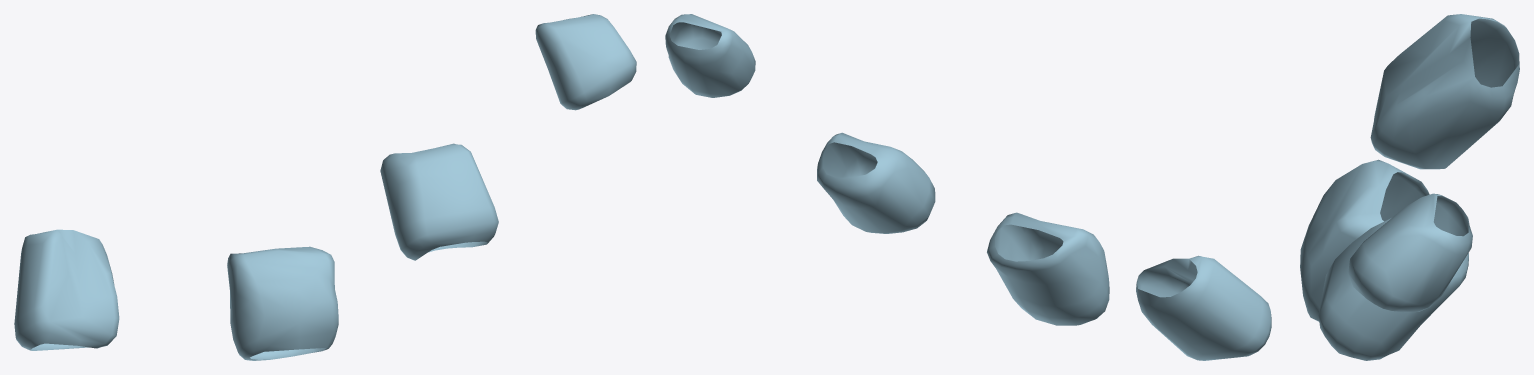
Rendered from articulacoes-articular-capsules-of-proximal-interphalangeal-joints-r.glb.
The picture shows the model from 3 angles, left to right: view 1: azimuth 30°, elevation 25°; view 2: azimuth 150°, elevation 25°; view 3: azimuth 270°, elevation 25°; orthographic projection. The views are drawn at different scales.
Visible parts, largest first — view 1: Articular capsules of proximal interphalangeal joints.r; view 2: Articular capsules of proximal interphalangeal joints.r; view 3: Articular capsules of proximal interphalangeal joints.r.
Boxes of the visible parts, bbox=[...] form: Articular capsules of proximal interphalangeal joints.r: bbox=[14, 14, 636, 360]; Articular capsules of proximal interphalangeal joints.r: bbox=[665, 14, 1271, 360]; Articular capsules of proximal interphalangeal joints.r: bbox=[1300, 14, 1519, 360].
Bounding box in the file's own units: 0.0887 × 0.0337 × 0.0215.
